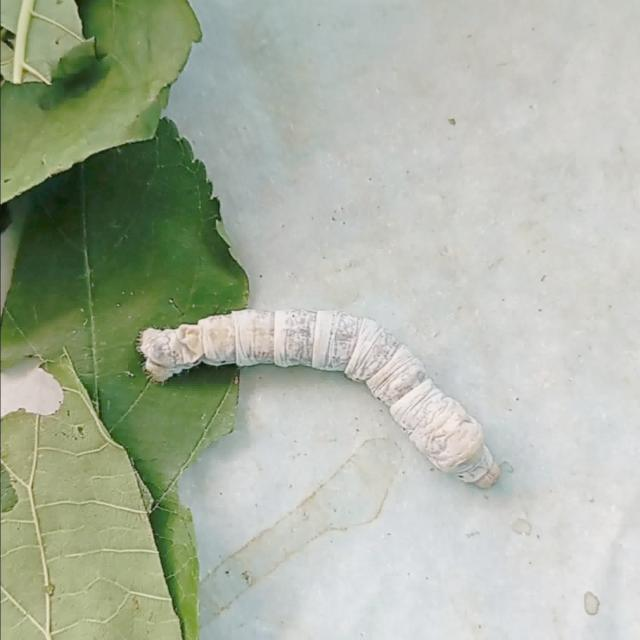Grasserie: (132, 284, 512, 500)
